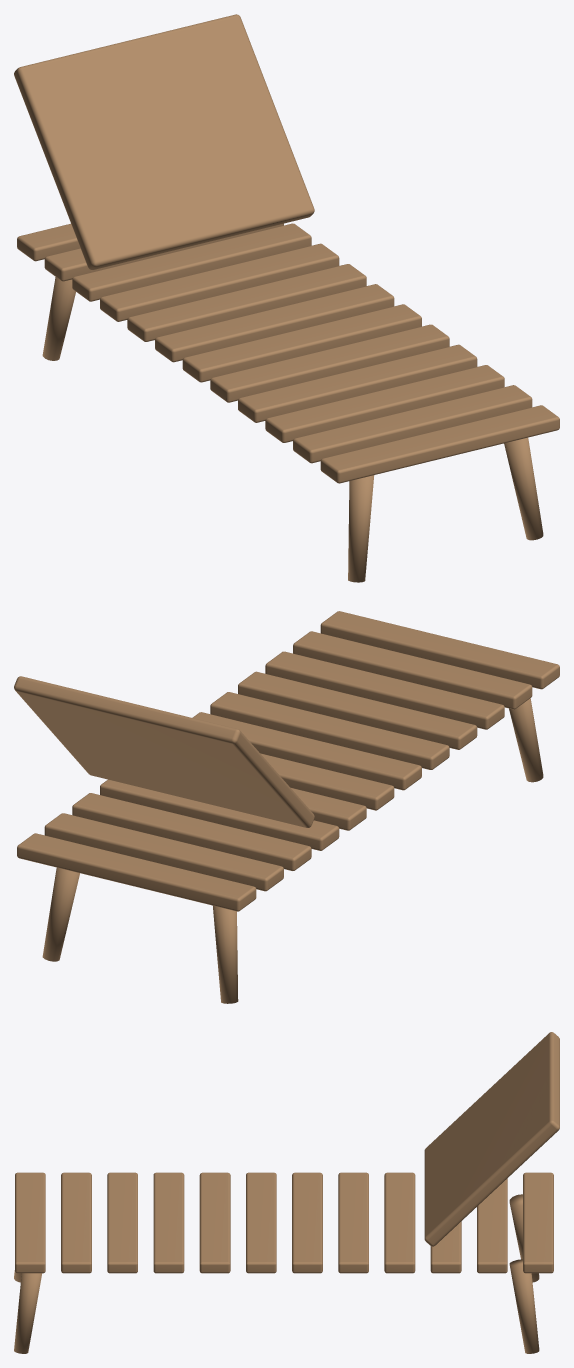
Rendered from atelier-deck-chair.glb.
3 renders of one model, top to bottom at view 1: azimuth 30°, elevation 25°; view 2: azimuth 150°, elevation 25°; view 3: azimuth 270°, elevation 25°, orthographic. The views are drawn at different scales.
Visible parts, largest first — view 1: legs.196; view 2: legs.196; view 3: legs.196.
Boxes of the visible parts, bbox=[...] form: legs.196: bbox=[14, 14, 559, 582]; legs.196: bbox=[14, 611, 559, 1003]; legs.196: bbox=[14, 1032, 559, 1353].
Bounding box in the file's own units: 0.7 × 0.86 × 1.77.
